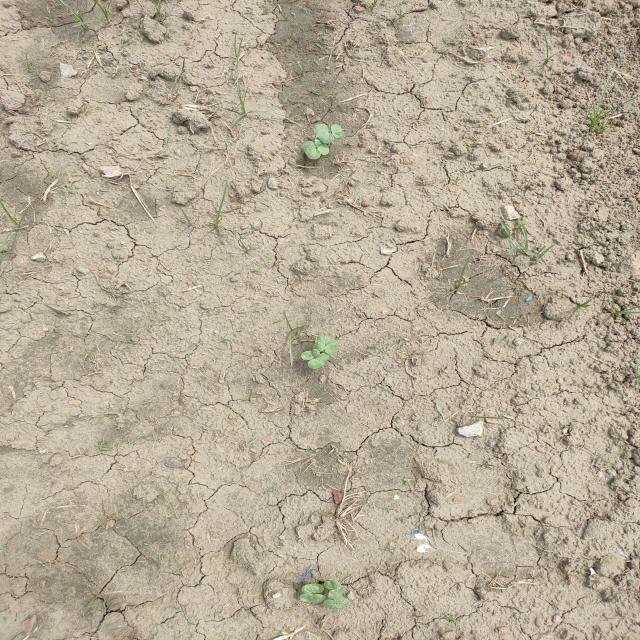seedling: (313, 124, 334, 144), (308, 353, 330, 369), (303, 141, 321, 160), (312, 335, 330, 352), (299, 594, 326, 603), (315, 138, 329, 155), (328, 586, 346, 599), (323, 599, 344, 610), (325, 339, 339, 354), (302, 583, 323, 593), (301, 349, 320, 360), (334, 594, 349, 607), (331, 124, 343, 139), (323, 581, 341, 589)
